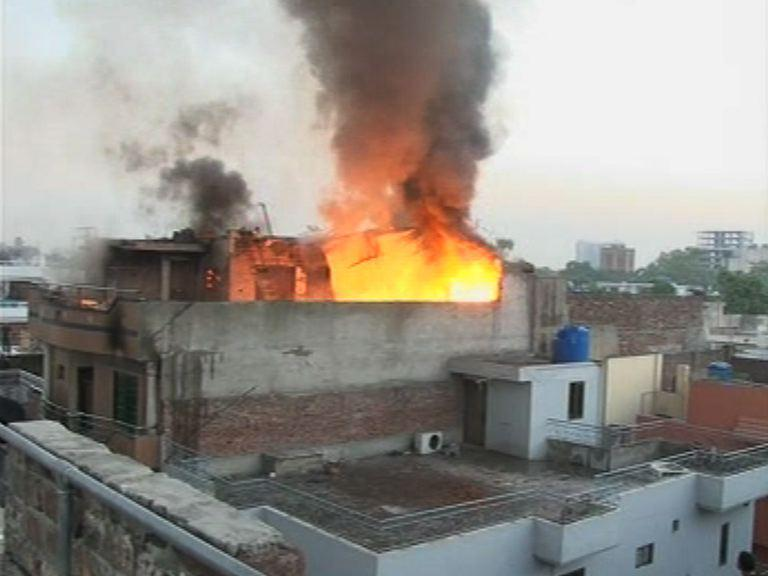fire: (308, 189, 521, 326)
